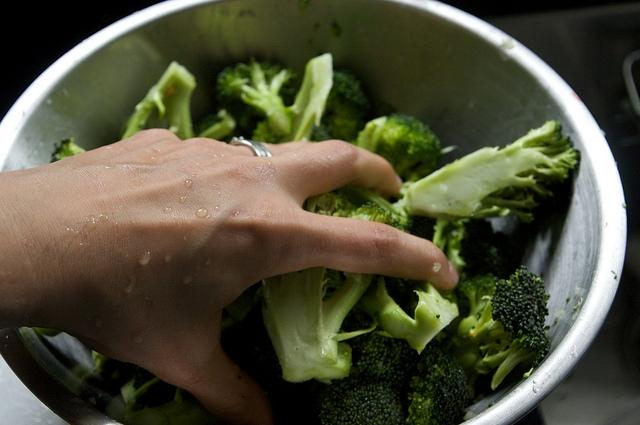broccoli: (261, 192, 410, 385), (393, 118, 582, 222), (452, 264, 556, 388), (316, 332, 419, 425), (363, 278, 459, 359), (252, 53, 334, 144), (216, 57, 302, 140), (352, 114, 441, 188), (312, 70, 396, 146), (120, 61, 196, 141), (404, 338, 469, 425), (92, 350, 156, 390), (461, 232, 514, 280), (221, 284, 262, 330), (194, 107, 236, 144), (134, 381, 176, 411), (50, 138, 86, 162)
